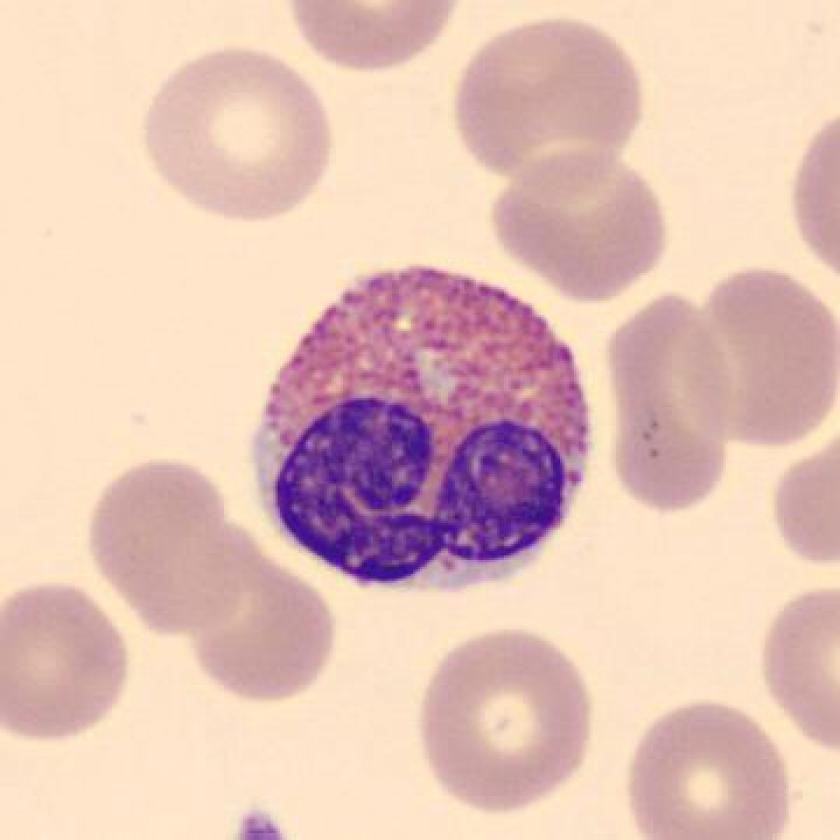eosinophil: (246, 253, 608, 603)
